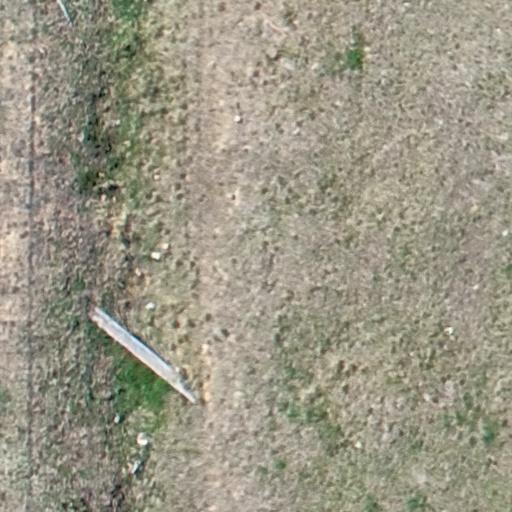stone: (151, 252, 162, 261), (145, 302, 155, 310), (160, 243, 170, 250), (234, 115, 242, 123)
